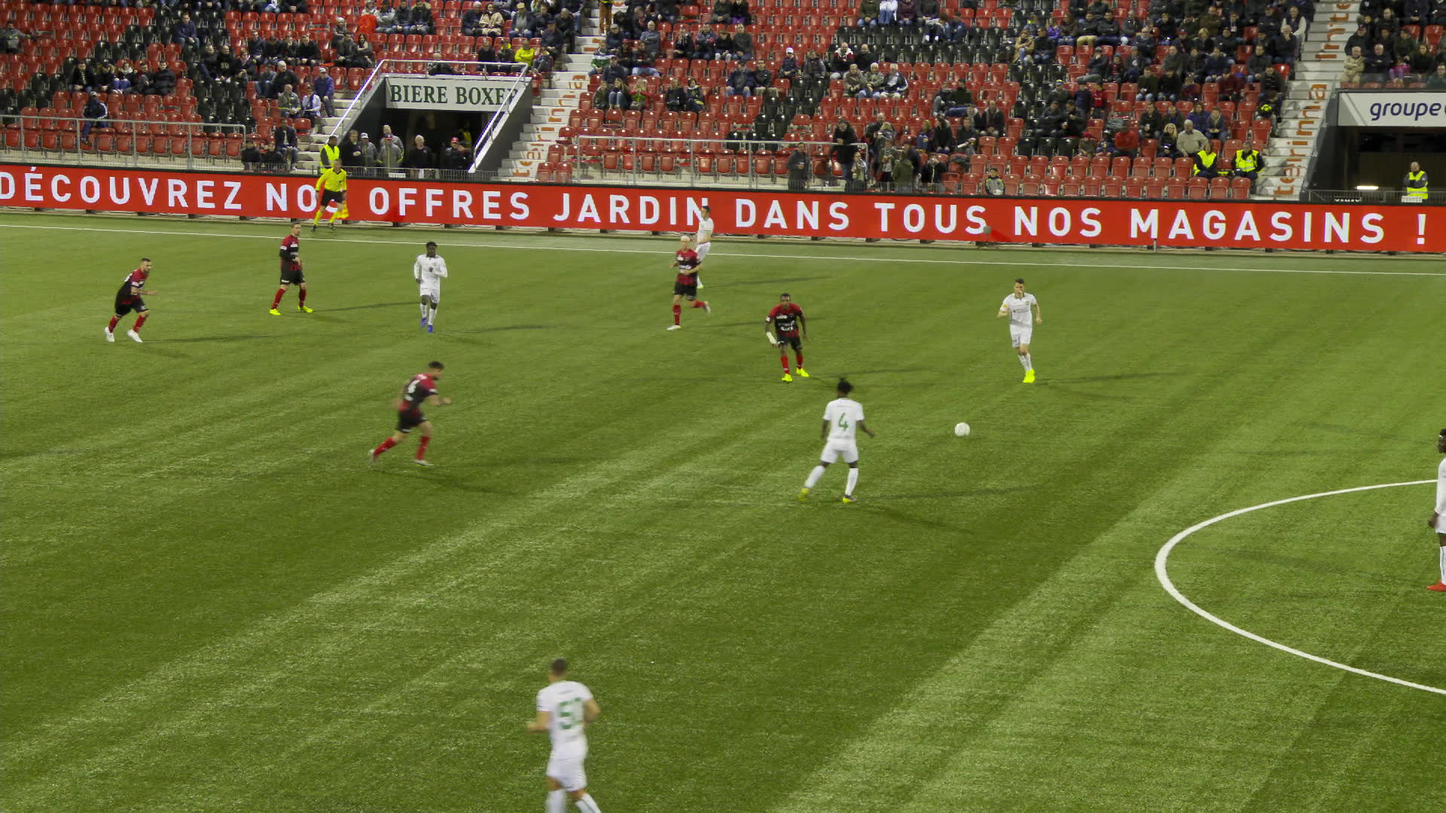ball: (955, 423, 969, 436)
player: (520, 661, 601, 812), (798, 377, 875, 504), (368, 360, 452, 467), (996, 278, 1043, 382), (105, 257, 158, 343), (666, 236, 711, 330), (269, 221, 313, 314), (765, 292, 808, 381), (1426, 426, 1445, 592), (413, 240, 446, 333), (688, 206, 713, 288)
referee: (310, 158, 345, 232)
